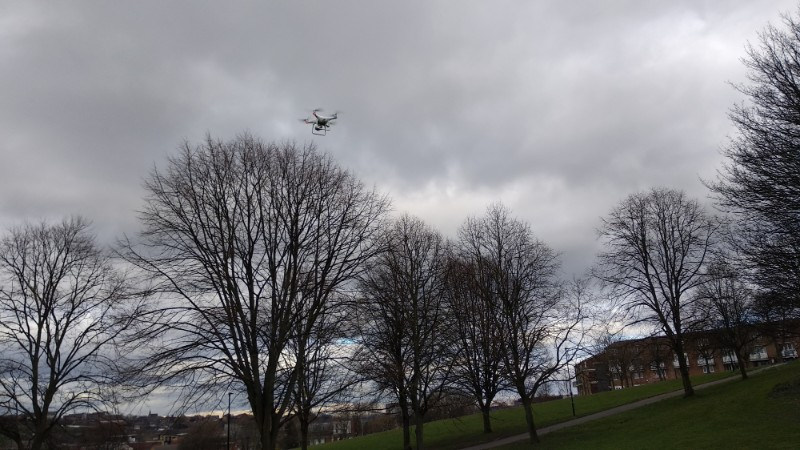drone: (300, 109, 341, 136)
